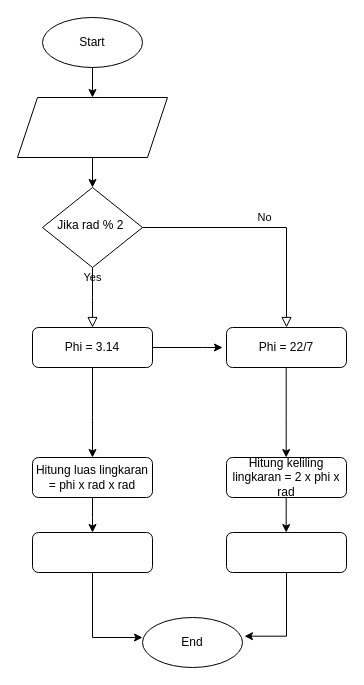
Some shapes in this 364 by 685 pixel diagram are drawn without their labels. The centre of each missing label's shape, as x and y in pixels:
Input variabel rad: the point at 92,127
Return Keliling: the point at 286,552
Return Luas: the point at 92,552
